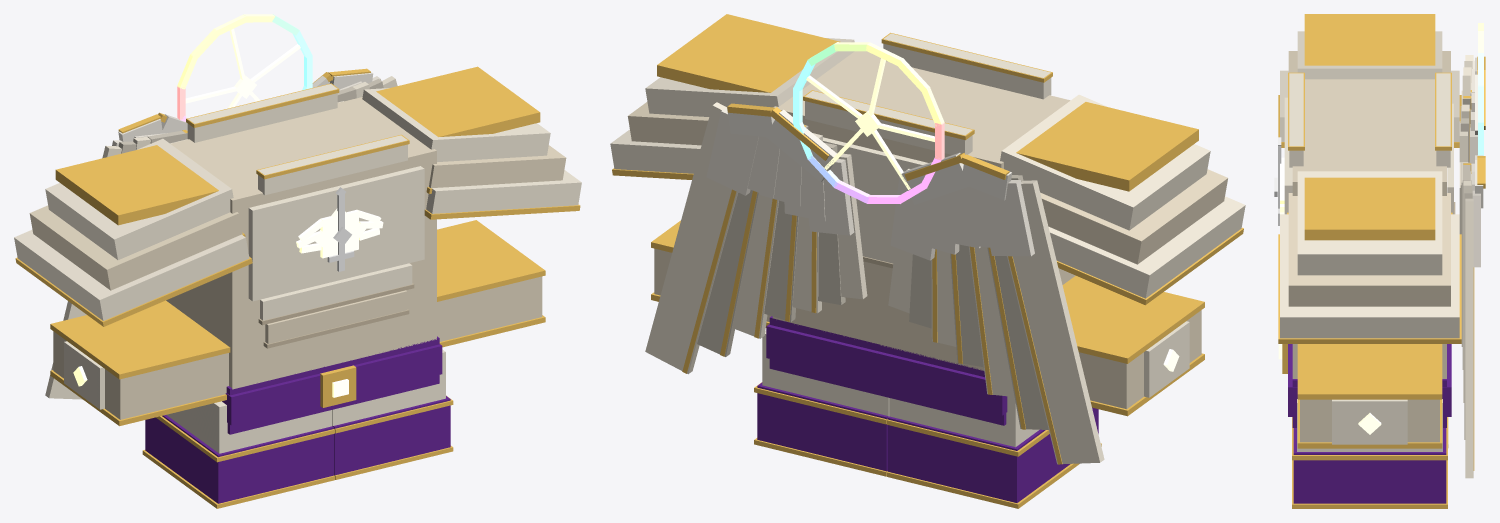
3 renders of one model, left to right at view 1: azimuth 30°, elevation 25°; view 2: azimuth 150°, elevation 25°; view 3: azimuth 270°, elevation 25°, orthographic. The views are drawn at different scales.
Visible parts, largest first — view 1: bulwark-of-the-nation; view 2: bulwark-of-the-nation; view 3: bulwark-of-the-nation.
Boxes of the visible parts, bbox=[...] form: bulwark-of-the-nation: bbox=[14, 14, 581, 508]; bulwark-of-the-nation: bbox=[610, 14, 1245, 508]; bulwark-of-the-nation: bbox=[1274, 14, 1485, 508].
Bounding box in the file's own units: 1.3 × 1.03 × 0.4697.
